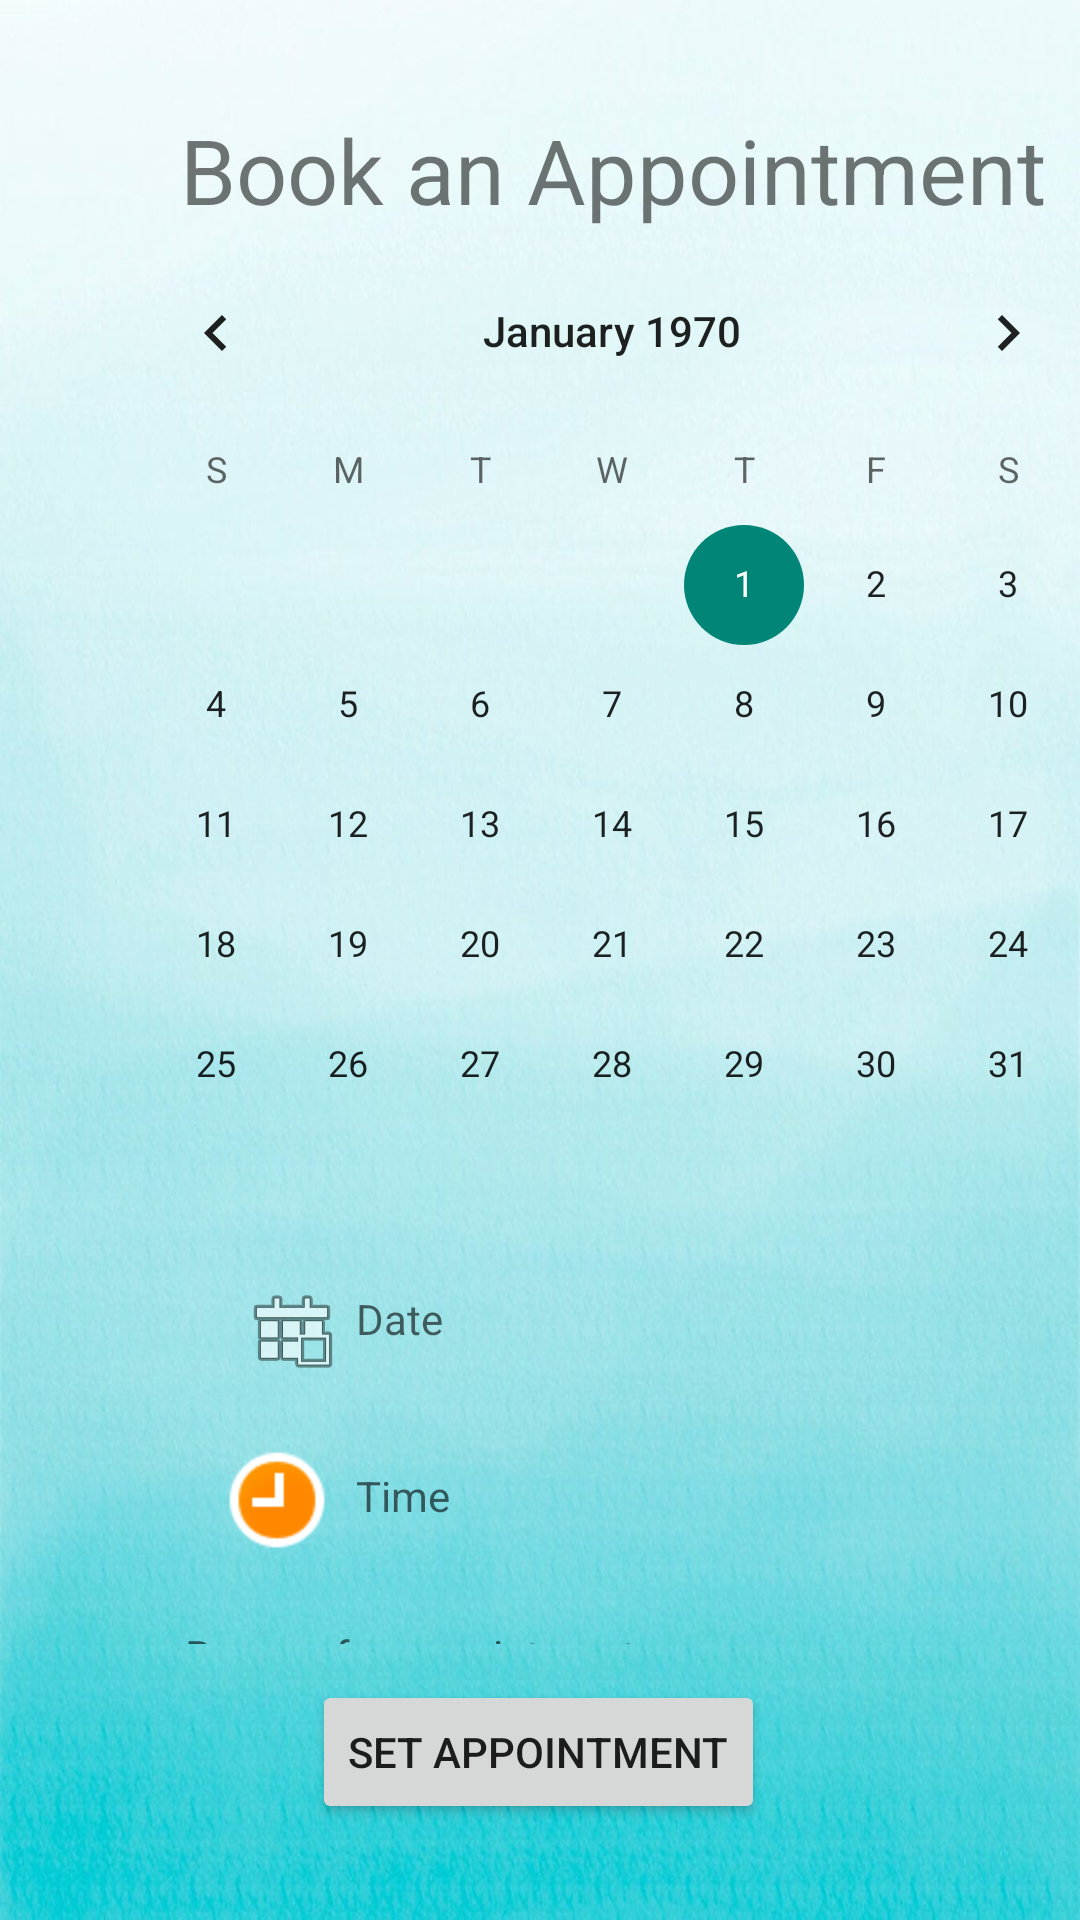

Named icons in this screenshot (1080 x 1920) and their centers, [x,y]:
presence away: [277,1497]
today: [293,1331]
